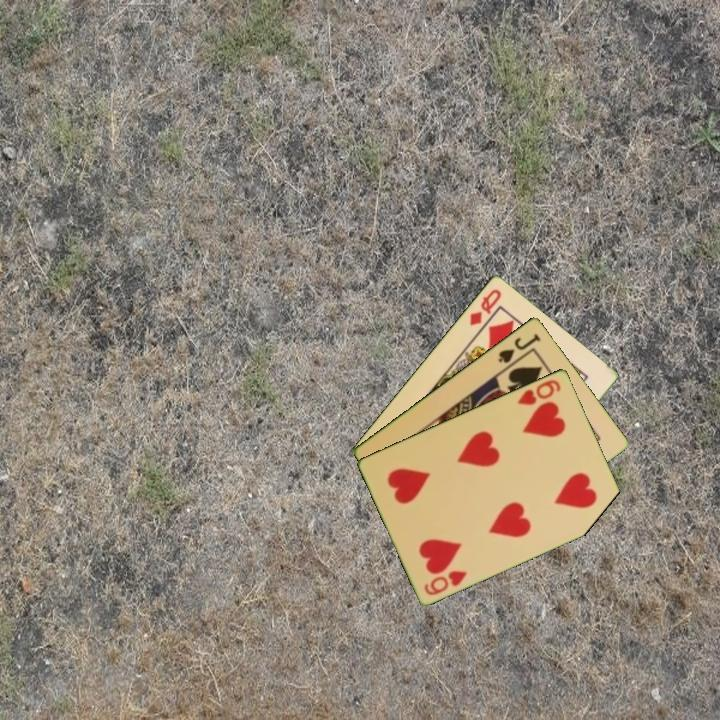6h: (514, 376, 564, 408), (421, 566, 470, 598)
Js: (494, 330, 544, 366)
Qd: (466, 285, 504, 328)
